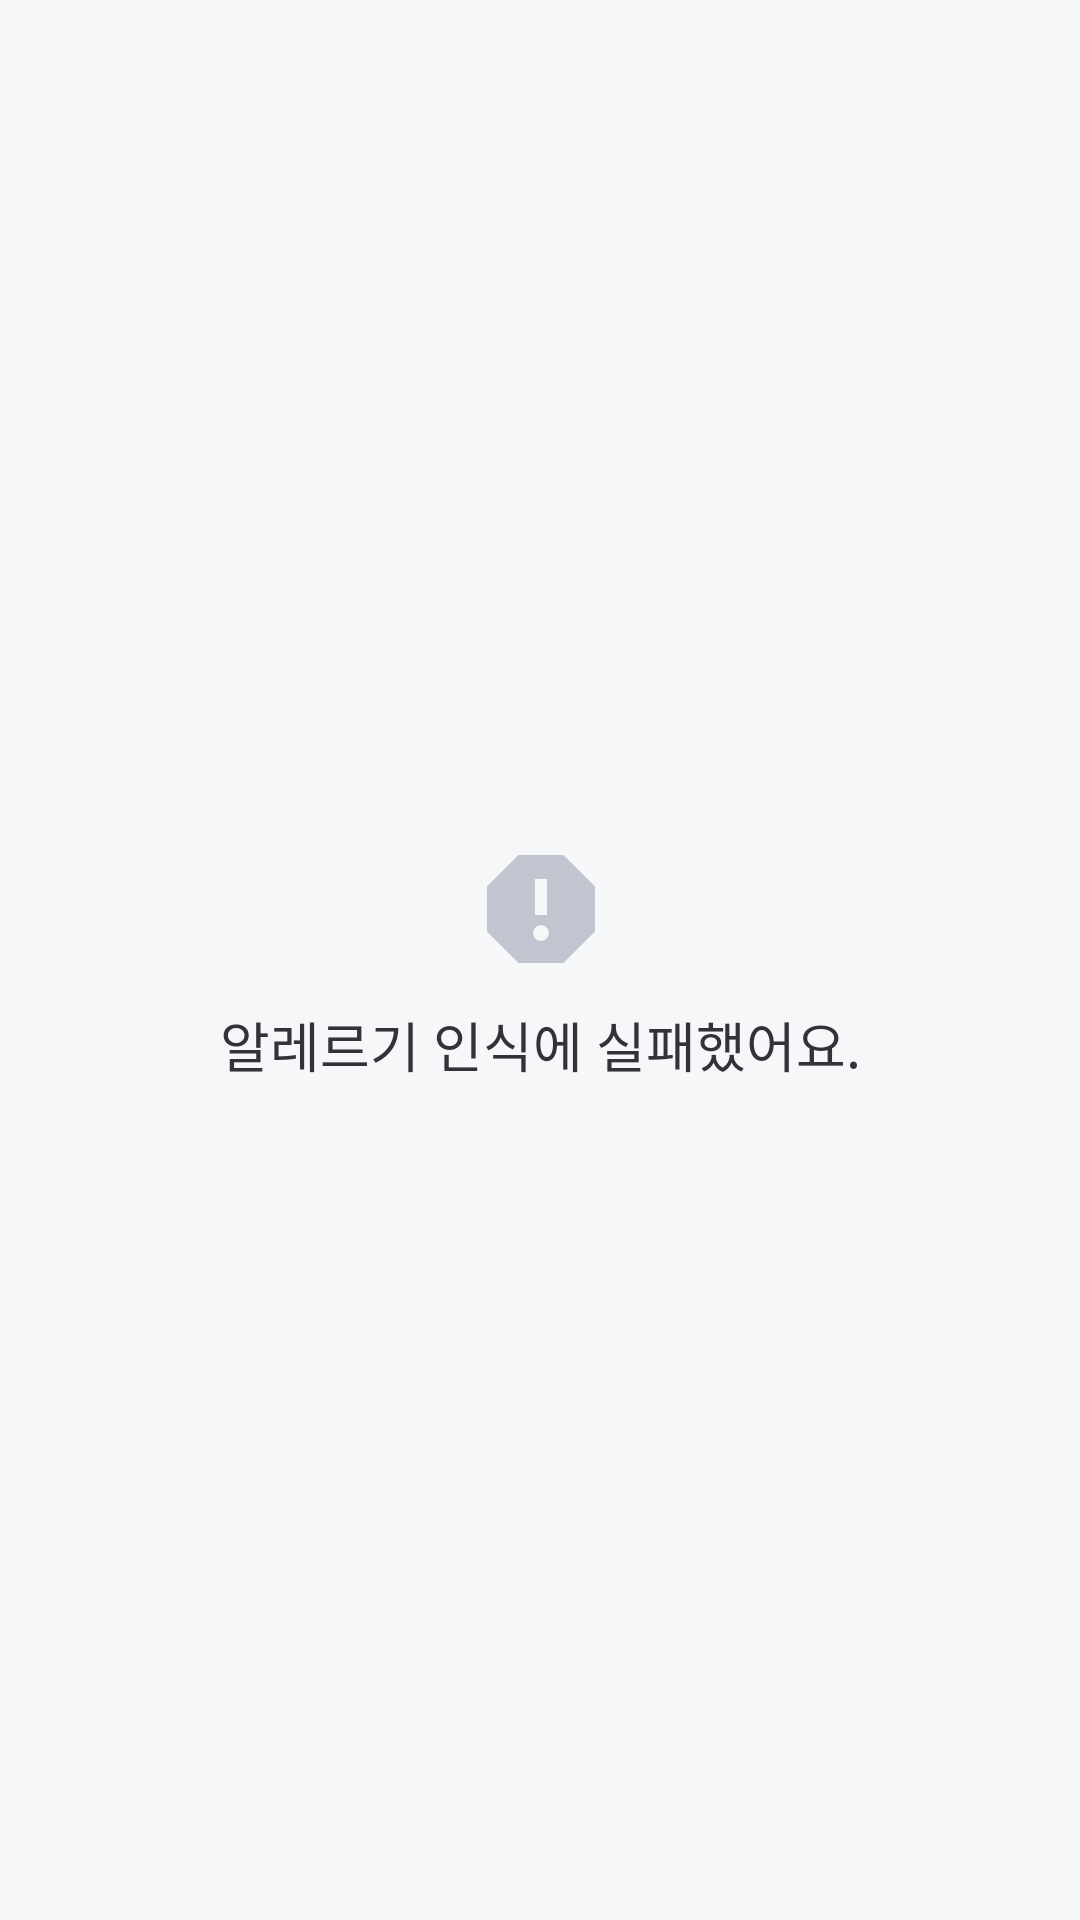

Icon click points for this 1080x1920 phone screenshot, format (x,y):
result fail: (541,909)
